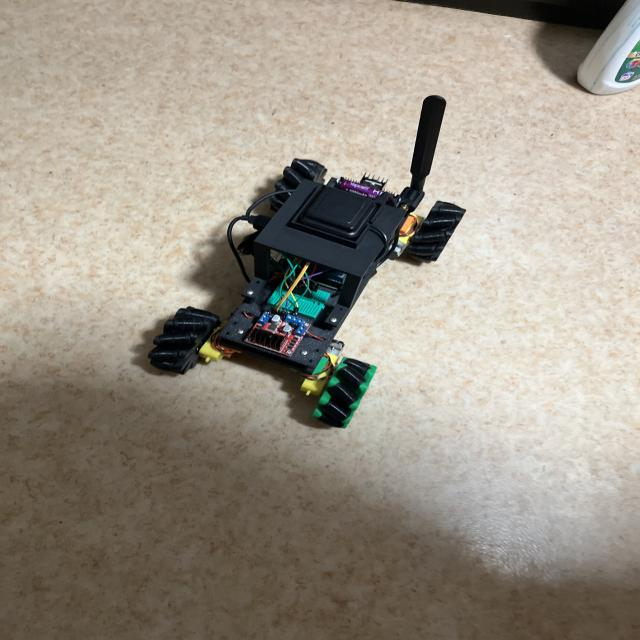robot: (148, 96, 465, 427)
